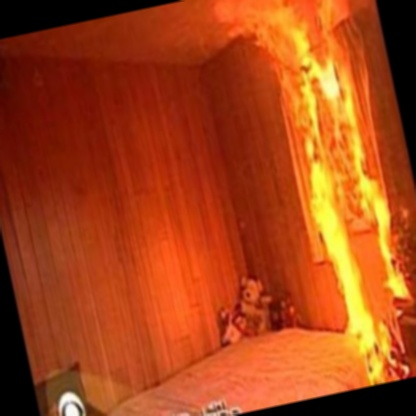fire: (220, 0, 416, 387)
